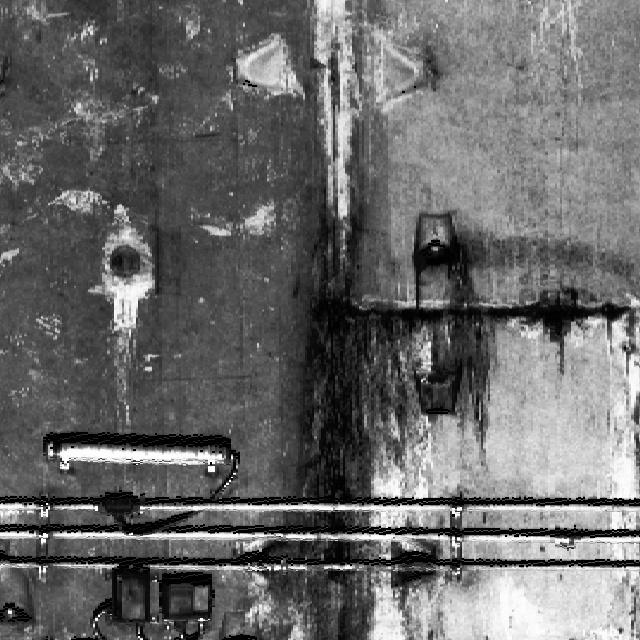leakage: (244, 1, 413, 639), (417, 251, 639, 452)
